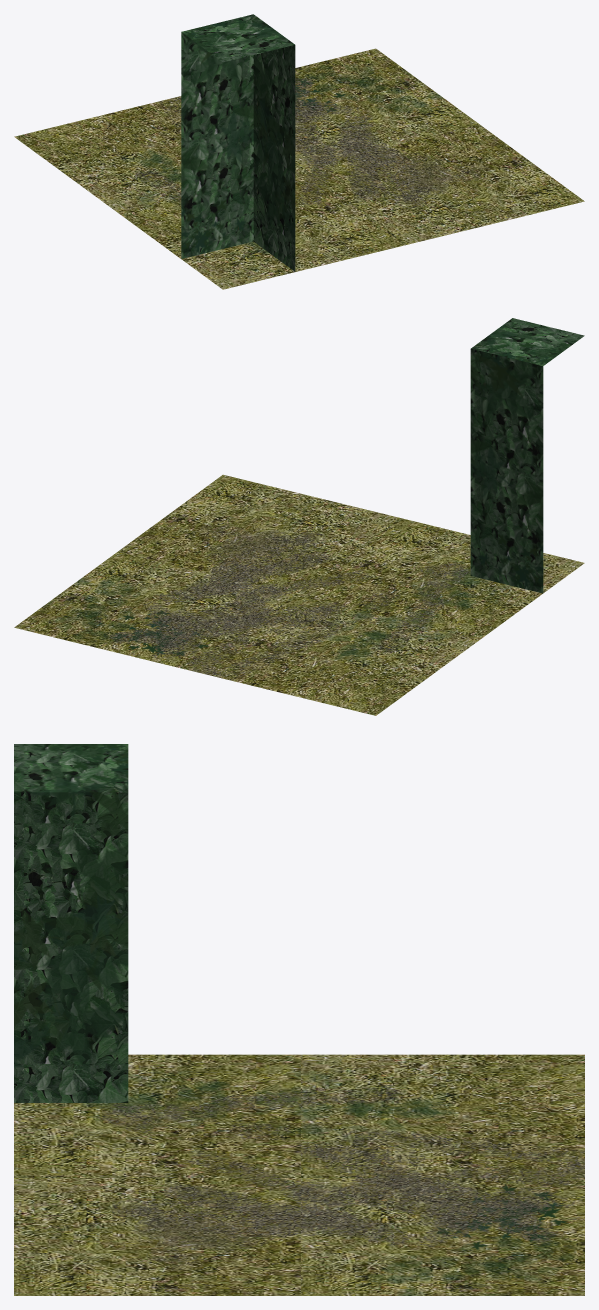
The model's file is 4-5_Edge_Wall.fbx.
The picture shows the model from 3 angles, top to bottom: view 1: azimuth 30°, elevation 25°; view 2: azimuth 150°, elevation 25°; view 3: azimuth 270°, elevation 25°; orthographic projection. The views are drawn at different scales.
Parts seen in each view (by area): view 1: pCube2; view 2: pCube2; view 3: pCube2.
Part boxes in pixels (bbox=[...]): pCube2: bbox=[14, 14, 584, 289]; pCube2: bbox=[14, 318, 584, 715]; pCube2: bbox=[14, 744, 584, 1295].
Bounding box in the file's own units: 100 × 60 × 100.
Materials: 1 (1 with a texture image).
